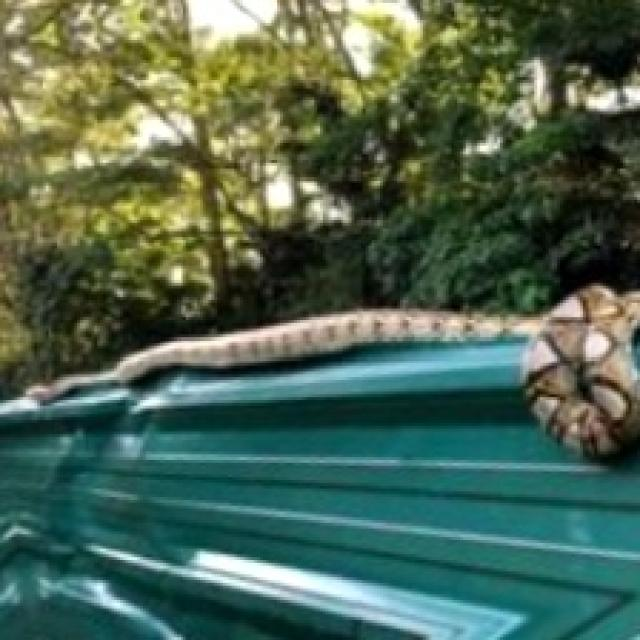reticulated python: (26, 284, 640, 458)
